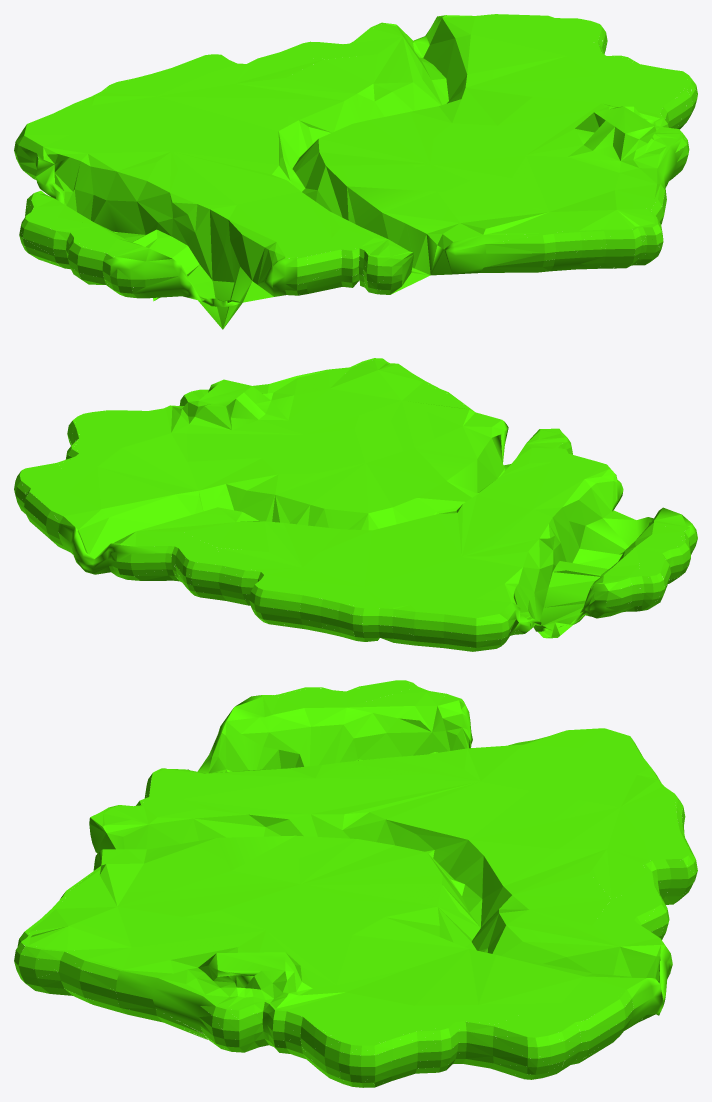
Rendered from Map.glb.
3 views of the same model, one above another, from view 1: azimuth 30°, elevation 25°; view 2: azimuth 150°, elevation 25°; view 3: azimuth 270°, elevation 25° (orthographic). The views are drawn at different scales.
Parts seen in each view (by area): view 1: SM_FloatingIsland_S_2_StaticMeshComponent0; view 2: SM_FloatingIsland_S_2_StaticMeshComponent0; view 3: SM_FloatingIsland_S_2_StaticMeshComponent0.
Part boxes in pixels (bbox=[...]): SM_FloatingIsland_S_2_StaticMeshComponent0: bbox=[14, 14, 697, 329]; SM_FloatingIsland_S_2_StaticMeshComponent0: bbox=[14, 358, 697, 651]; SM_FloatingIsland_S_2_StaticMeshComponent0: bbox=[14, 680, 697, 1087].
Bounding box in the file's own units: 527 × 69.73 × 410.
